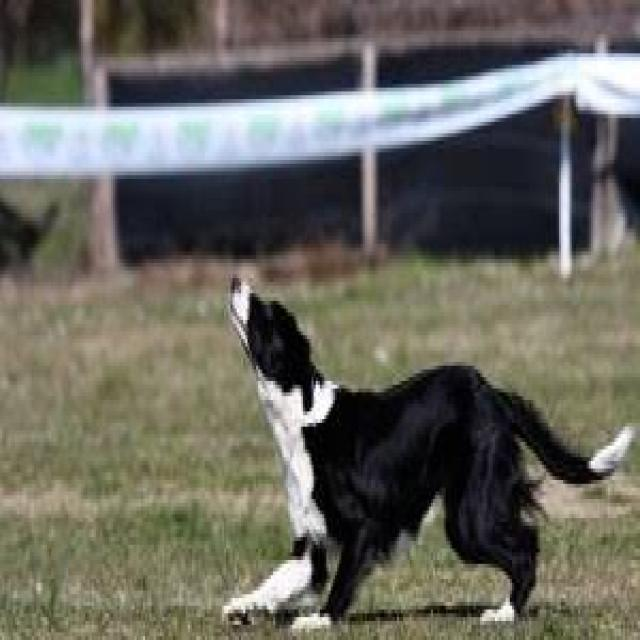ALASKAN_MALAMUTE: (211, 263, 633, 640)
